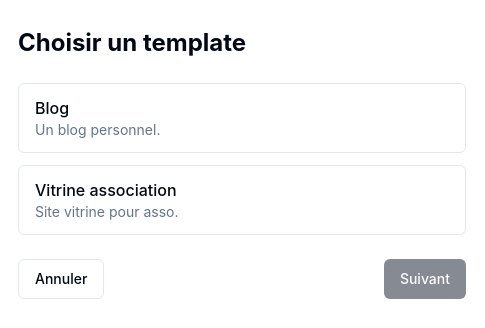
NewProjectWizard › navigates to config step after clicking Next
This screenshot has width=485, height=328.
Click the text "Blog". click: (52, 108)
box: [35,98,69,118]
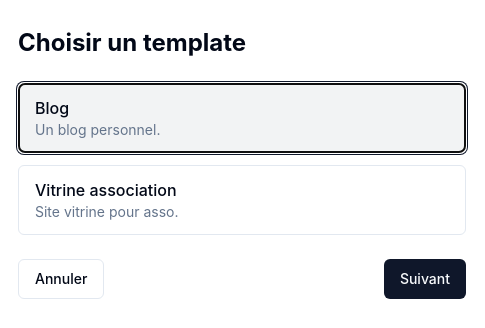
Click the button "Suivant". click: (425, 279)
box: [384,259,466,299]
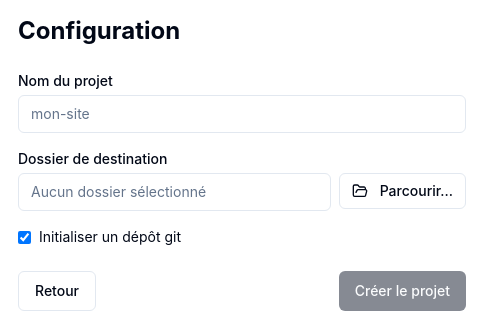
expect the heading "Configuration" is shown: met, box [18,16,180,45]
expect the field with placeholder "mon-site" is shown: met, box [18,95,466,133]
